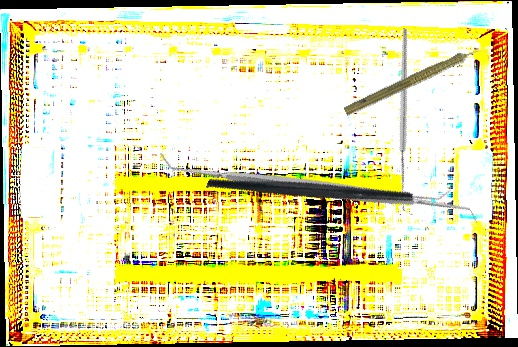Chopper: (205, 92, 454, 280)
Handpiece: (342, 38, 492, 123)
Hook Surgical: (322, 27, 493, 216)
Spatula Surgical: (158, 29, 479, 347)
